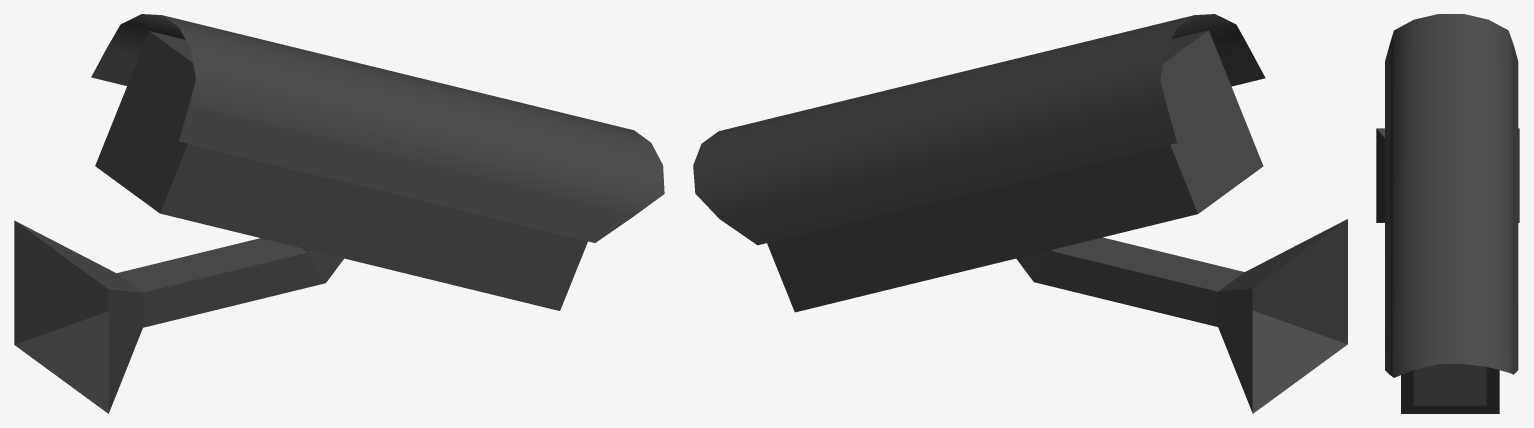
The model's file is SM_Webkam_01.fbx.
3 views of the same model, side by side, from view 1: azimuth 30°, elevation 25°; view 2: azimuth 150°, elevation 25°; view 3: azimuth 270°, elevation 25° (orthographic). The views are drawn at different scales.
Parts seen in each view (by area): view 1: SM_Webkam_01; view 2: SM_Webkam_01; view 3: SM_Webkam_01.
Part boxes in pixels (x1,y1,x2,y2): SM_Webkam_01: (14,14,664,413); SM_Webkam_01: (693,14,1347,413); SM_Webkam_01: (1376,14,1519,413).
Size of the model in its own units: 44.1 by 25.46 by 12.34.
1 material, 1 textured.
